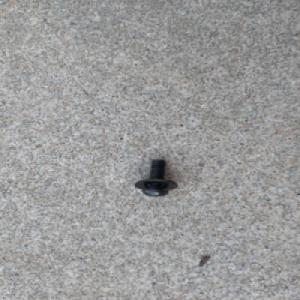BoltWasher: (131, 158, 178, 198)
